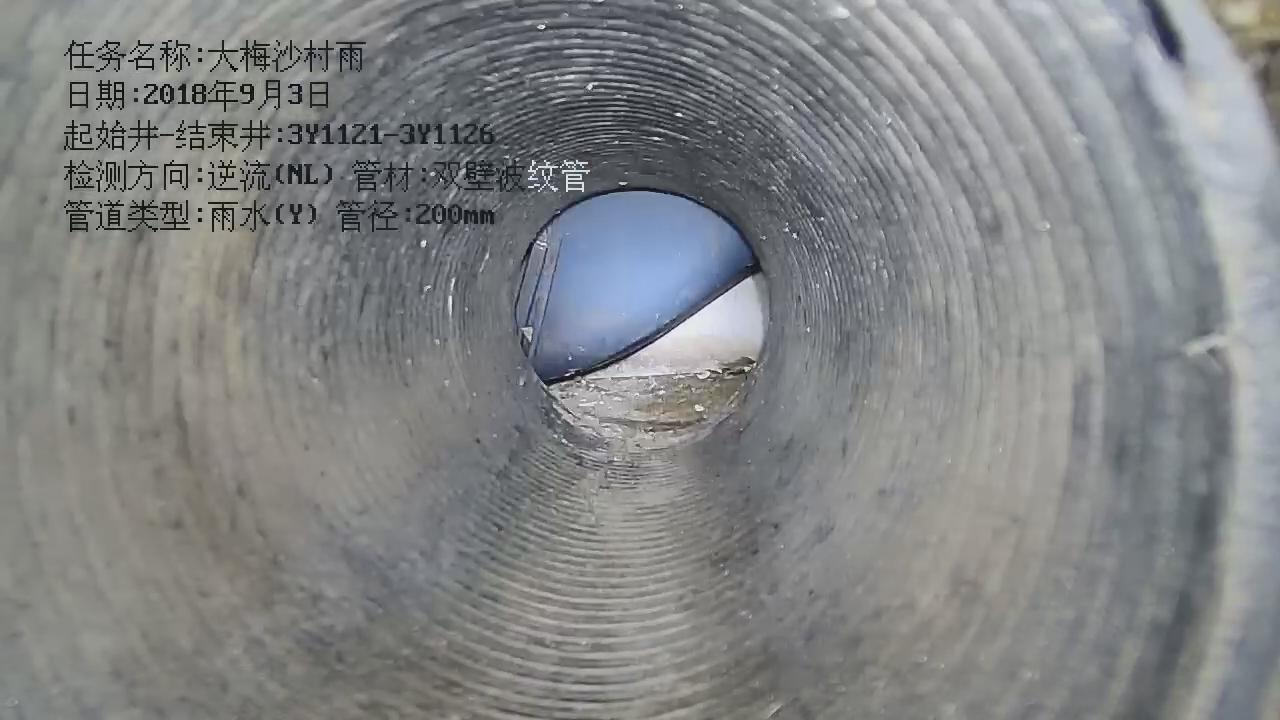YWCR: (517, 190, 759, 383)
